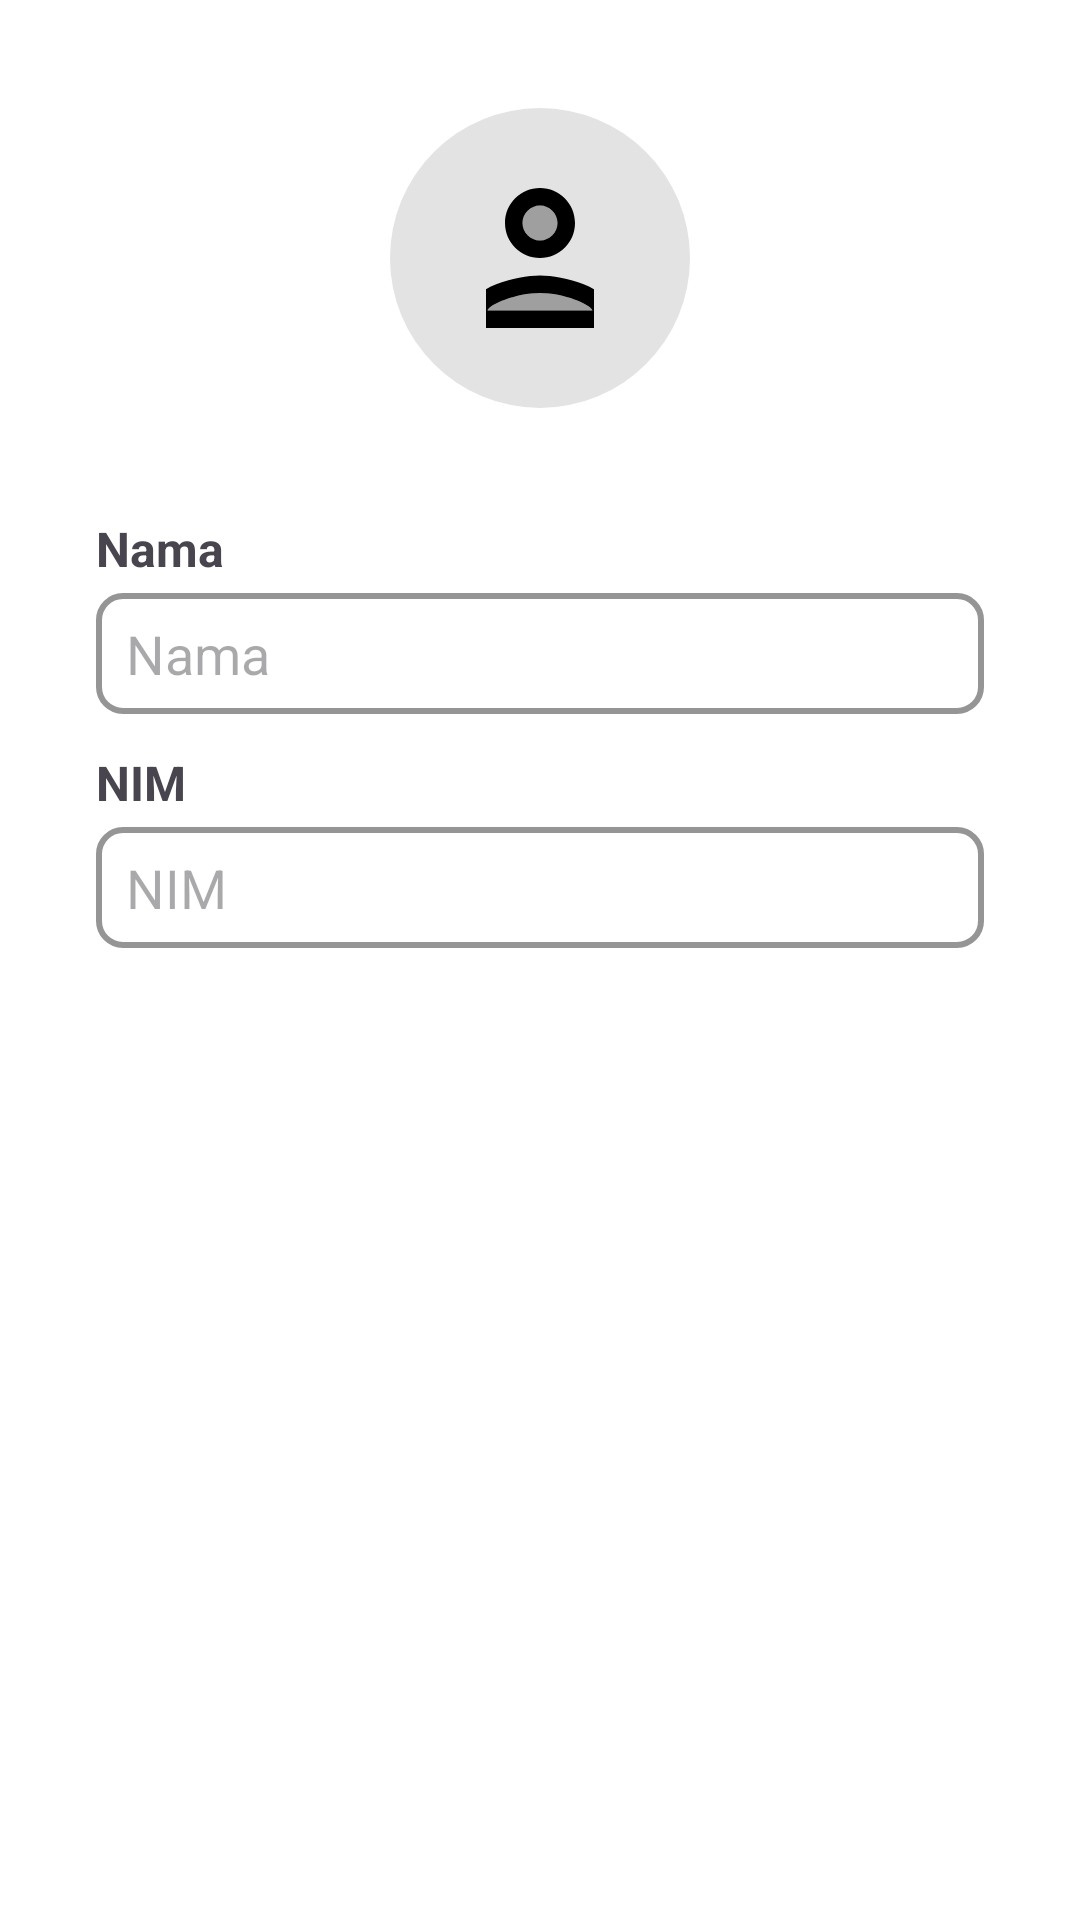

Icons on this 1080px×1920px Android screen, each with the point to tap as [x,y]:
person: [540,258]
